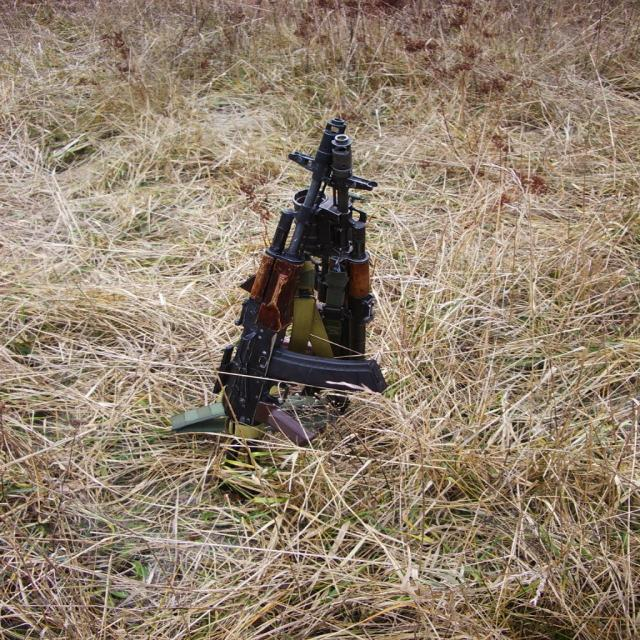firearm: (216, 116, 390, 500), (292, 133, 379, 415)
